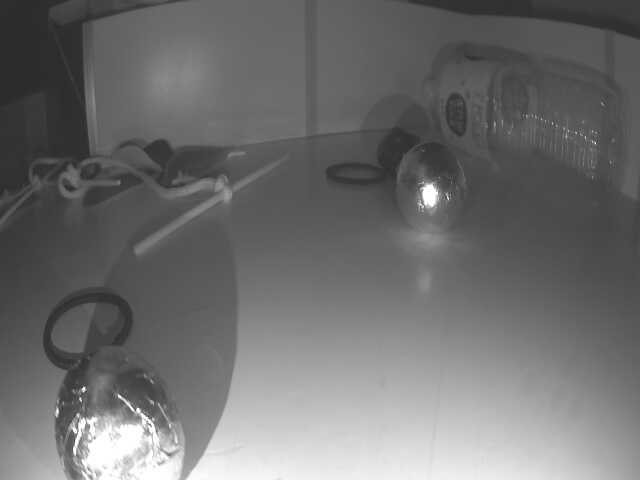Dead: (381, 123, 415, 170)
Live: (51, 348, 187, 480), (394, 138, 468, 236)
